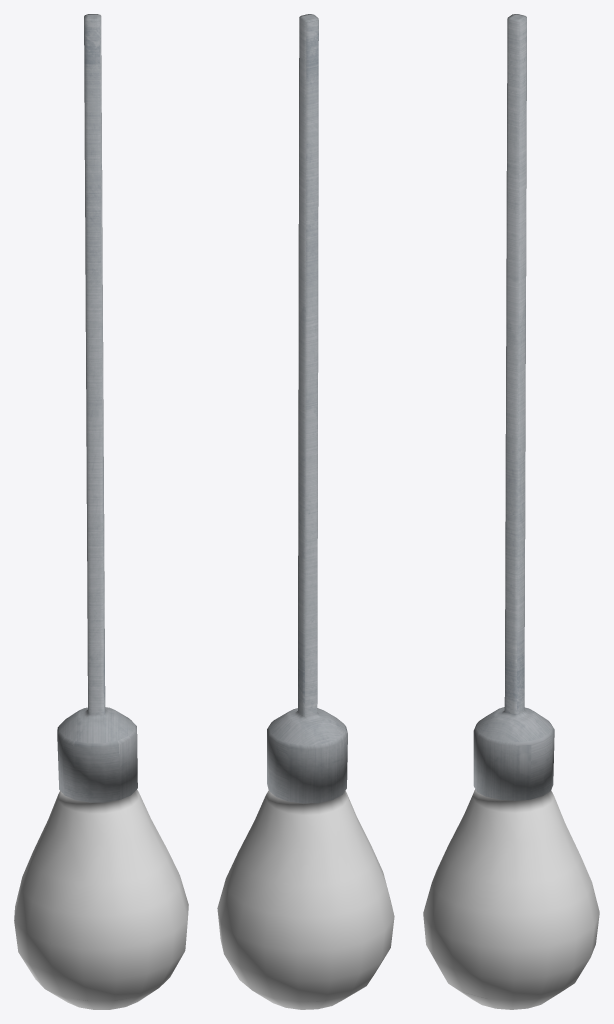
File: LightBulb.fbx
3 views of the same model, side by side, from view 1: azimuth 30°, elevation 25°; view 2: azimuth 150°, elevation 25°; view 3: azimuth 270°, elevation 25° (orthographic).
Parts seen in each view (by area): view 1: Lightblub_Baked; view 2: Lightblub_Baked; view 3: Lightblub_Baked.
Boxes of the visible parts, bbox=[...] form: Lightblub_Baked: bbox=[14, 14, 188, 1009]; Lightblub_Baked: bbox=[217, 14, 394, 1009]; Lightblub_Baked: bbox=[423, 14, 599, 1009].
Size of the model in its own units: 7.02 by 43.04 by 7.02.
Materials: 1 (1 with a texture image).
